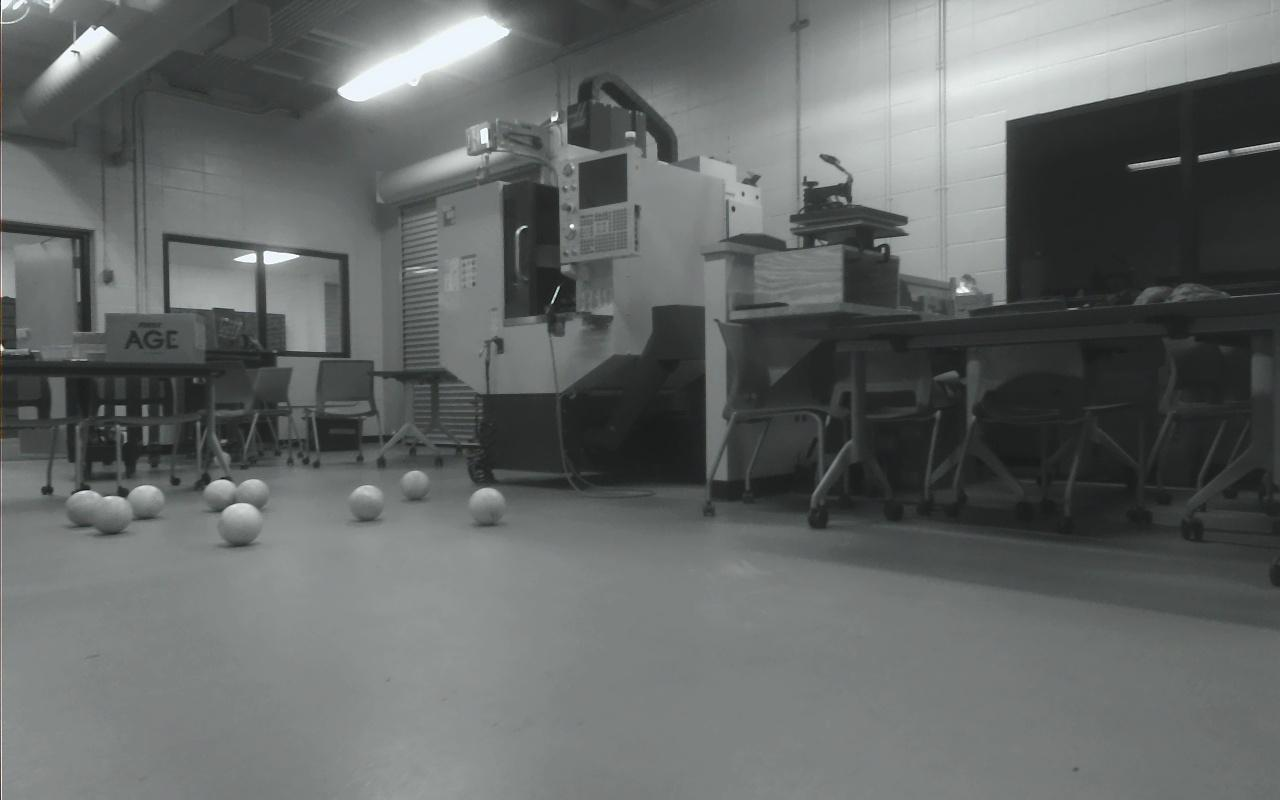Fuel: (219, 502, 262, 546), (91, 495, 132, 534), (468, 487, 506, 525), (65, 490, 104, 527), (348, 484, 384, 520), (127, 485, 164, 519), (204, 478, 237, 511), (237, 478, 269, 510), (401, 470, 430, 501)
